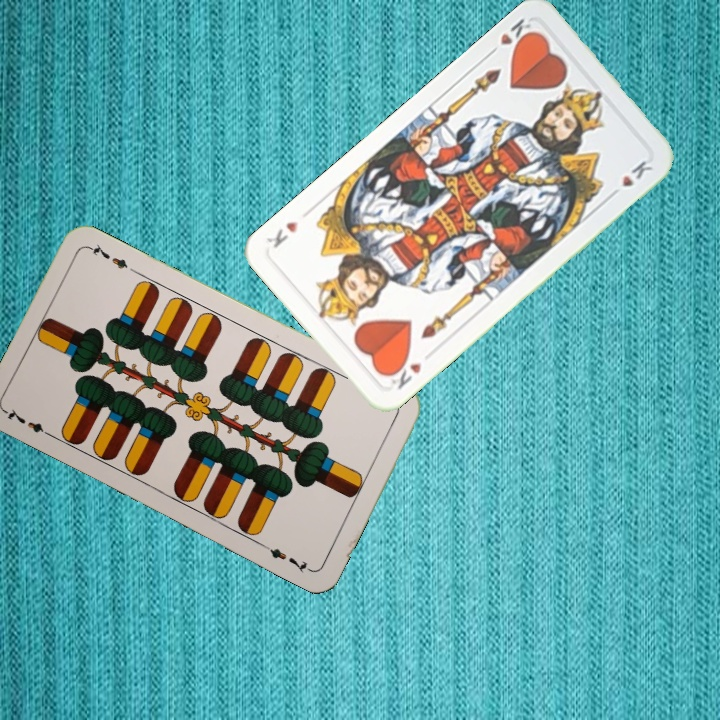E7: (2, 404, 57, 441)
HK: (483, 14, 539, 59), (383, 354, 425, 392)
